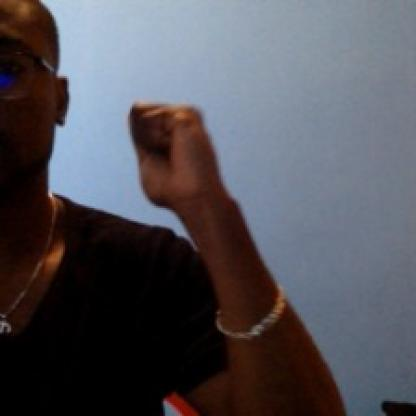BACKWARD: (121, 74, 277, 270)
